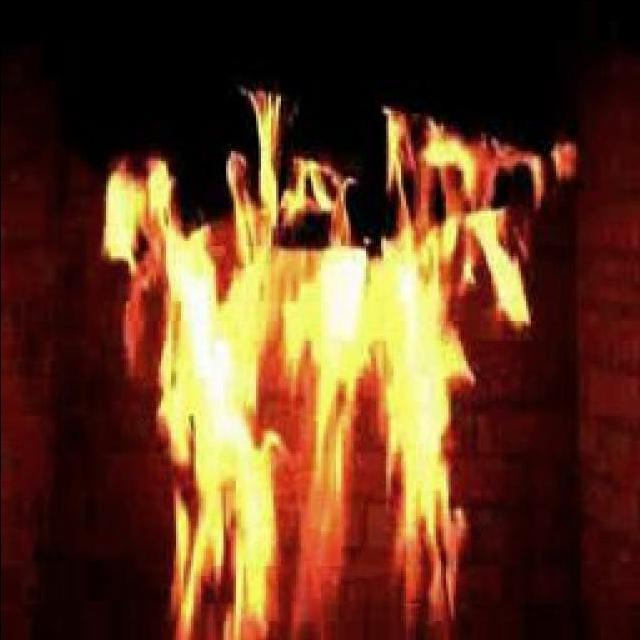Fire: (117, 152, 480, 599)
